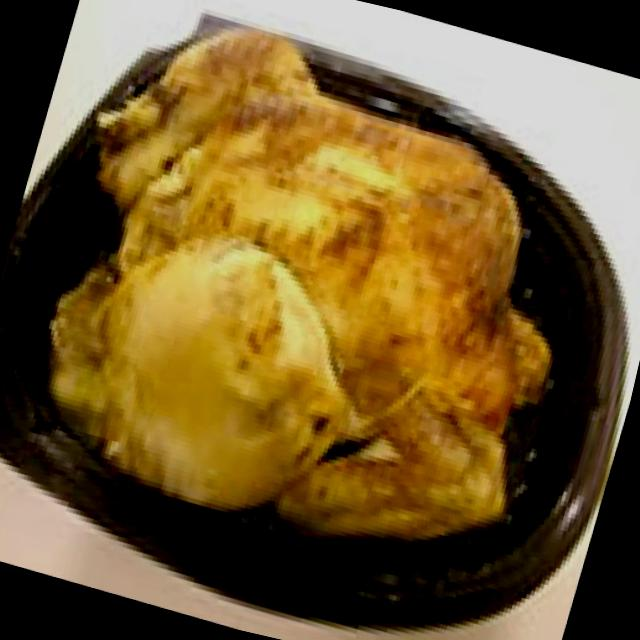Chicken: (25, 12, 601, 555)
